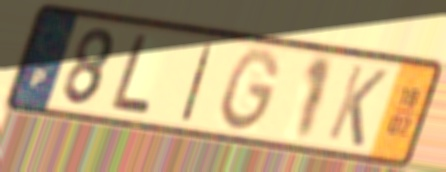1: (294, 54, 335, 145)
8: (61, 25, 116, 108)
G: (217, 45, 283, 135)
I: (178, 40, 217, 124)
K: (323, 61, 391, 150)
L: (108, 31, 156, 115)
